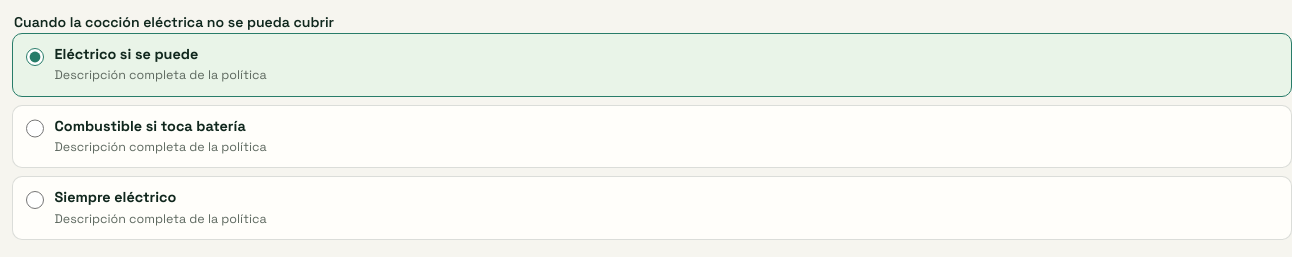
it: tarjetas de combustible (política de cocción) › selecciona la política pulsada y actualiza el estado seleccionado
Click the 2nd radio button.
click(35, 128)  # box [26,119,44,138]
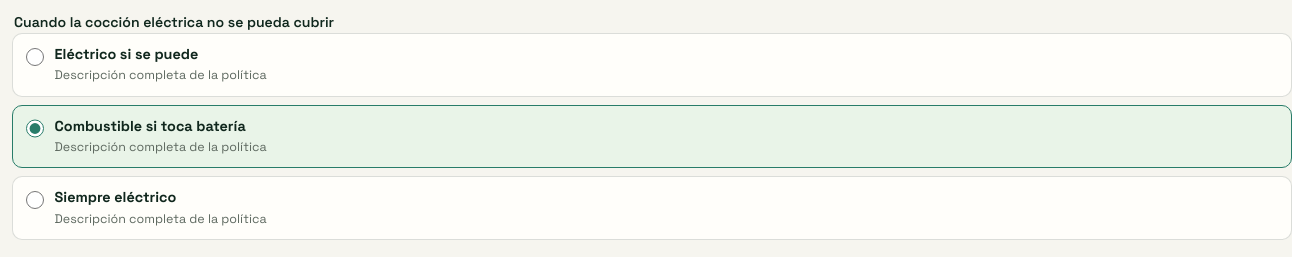
Expected: the label with class "choice" has class "is-on", [12,105,1291,168]
Expected: the label with class "choice" does not have class "is-on", [12,33,1291,97]
